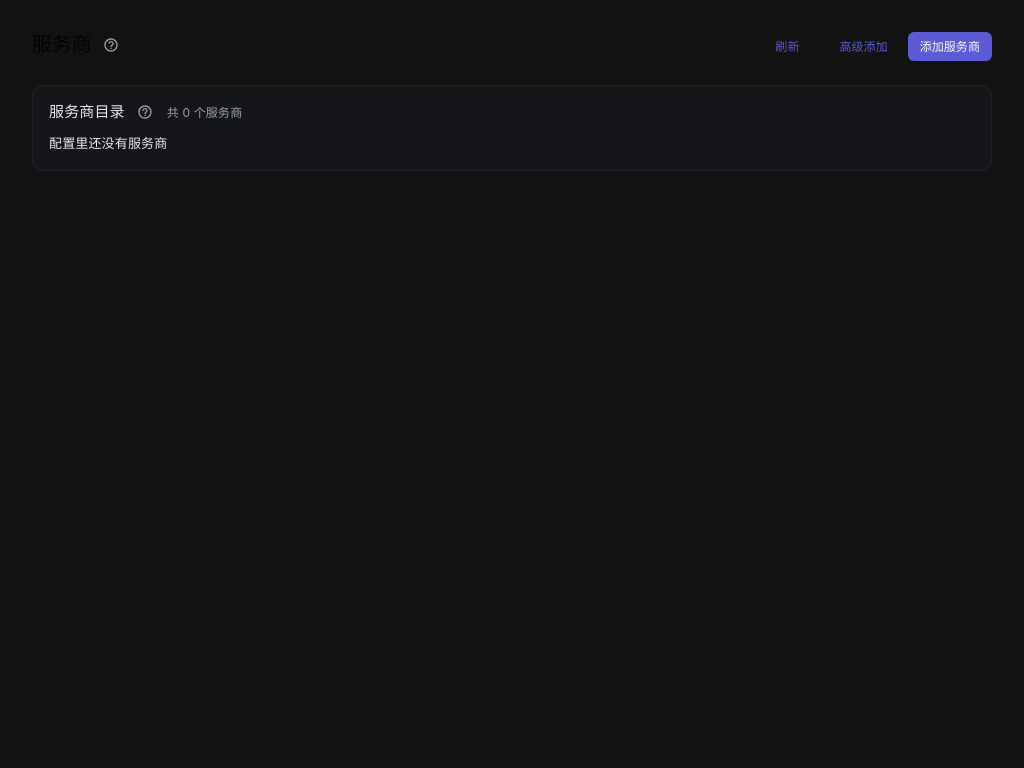
列表页：空 / 加载 / 错误 / 有数据 › 整页空态：空态里没有按钮，添加入口就是页头那一个（不是本地假入口）
# 同一屏唯一的添加入口仍是真的：点了进两步向导
Click the button with test id "providers-add-open": (950, 47) [908,32,992,61]
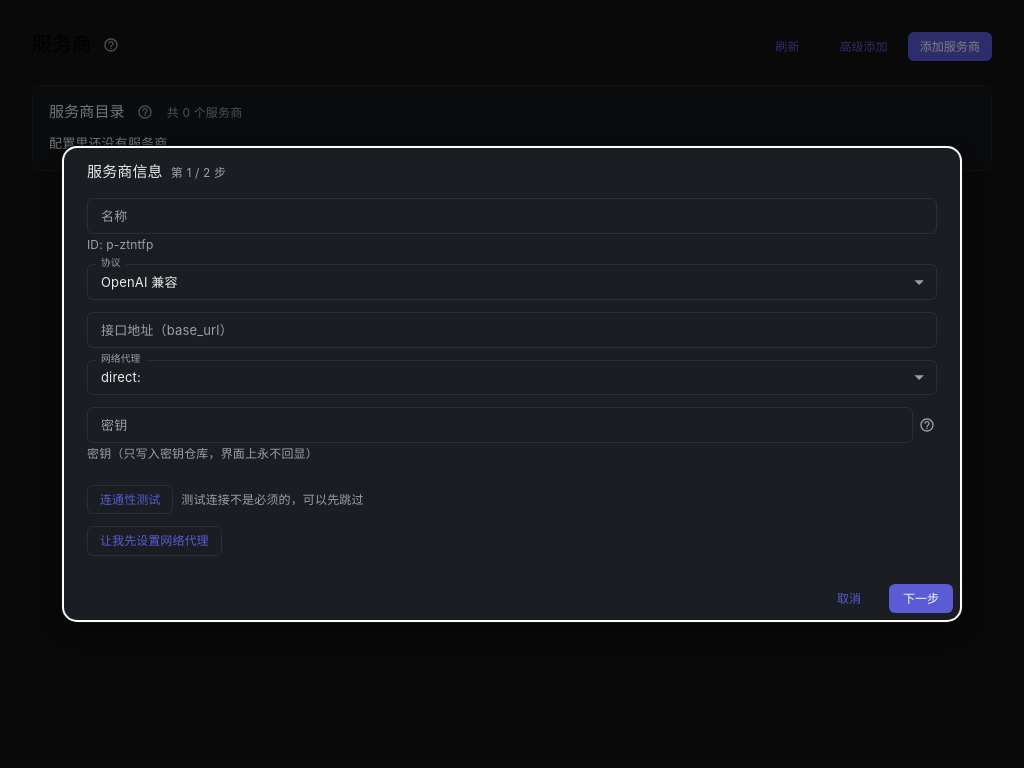
Now the element with test id "provider-wizard-step1" is shown, box [87,198,937,556]
